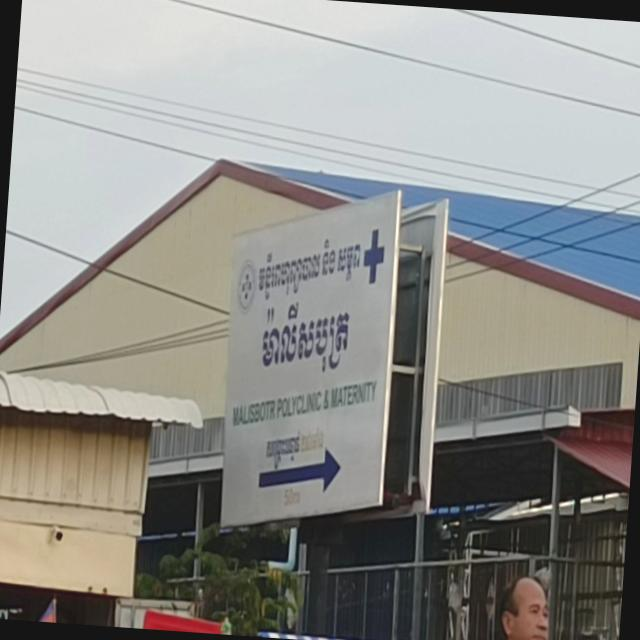1: (253, 229, 366, 306)
Yolov11_80vkh: (254, 288, 361, 386)
